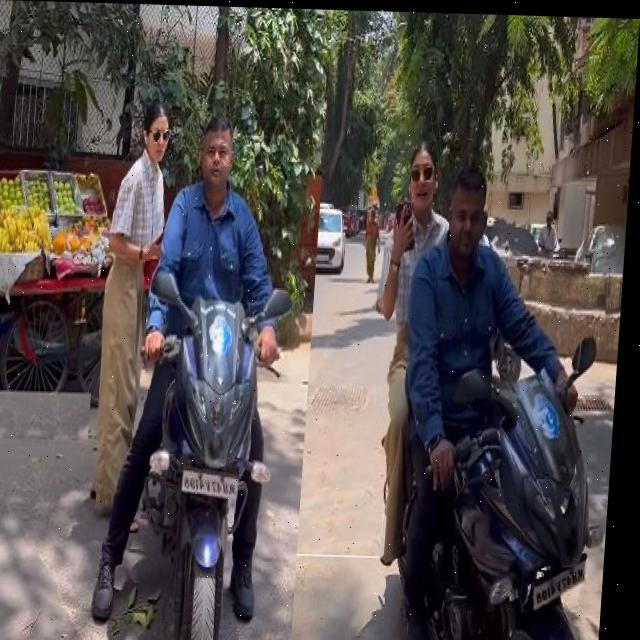without helmet: (444, 158, 493, 262), (195, 108, 245, 203), (406, 129, 444, 222)
